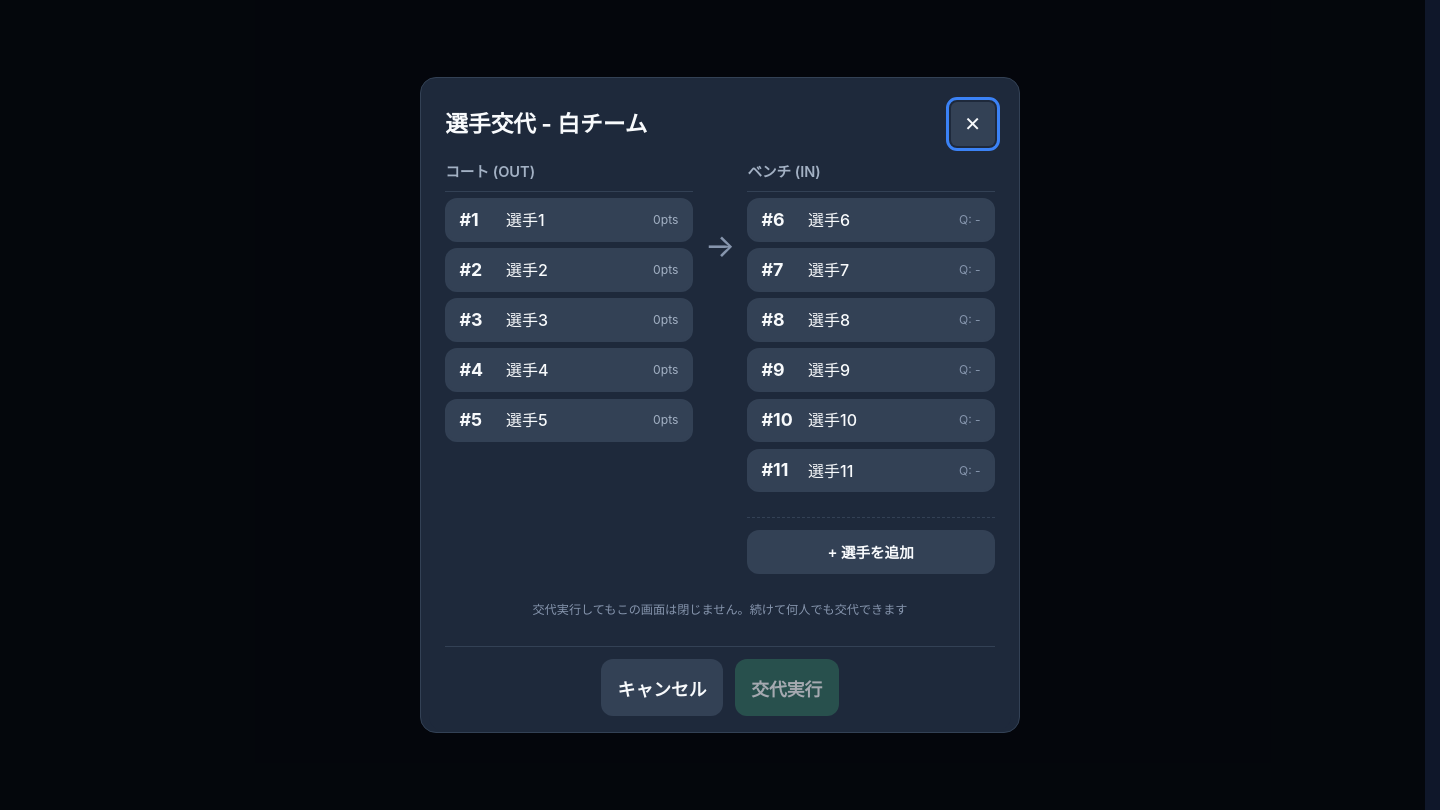
it: SubstitutionModal 登録人数の上限 › 15人に達したら、スコアシートに収まらないことを知らせる
Click the button "+ 選手を追加" at (871, 552), box [747,530,995,574]
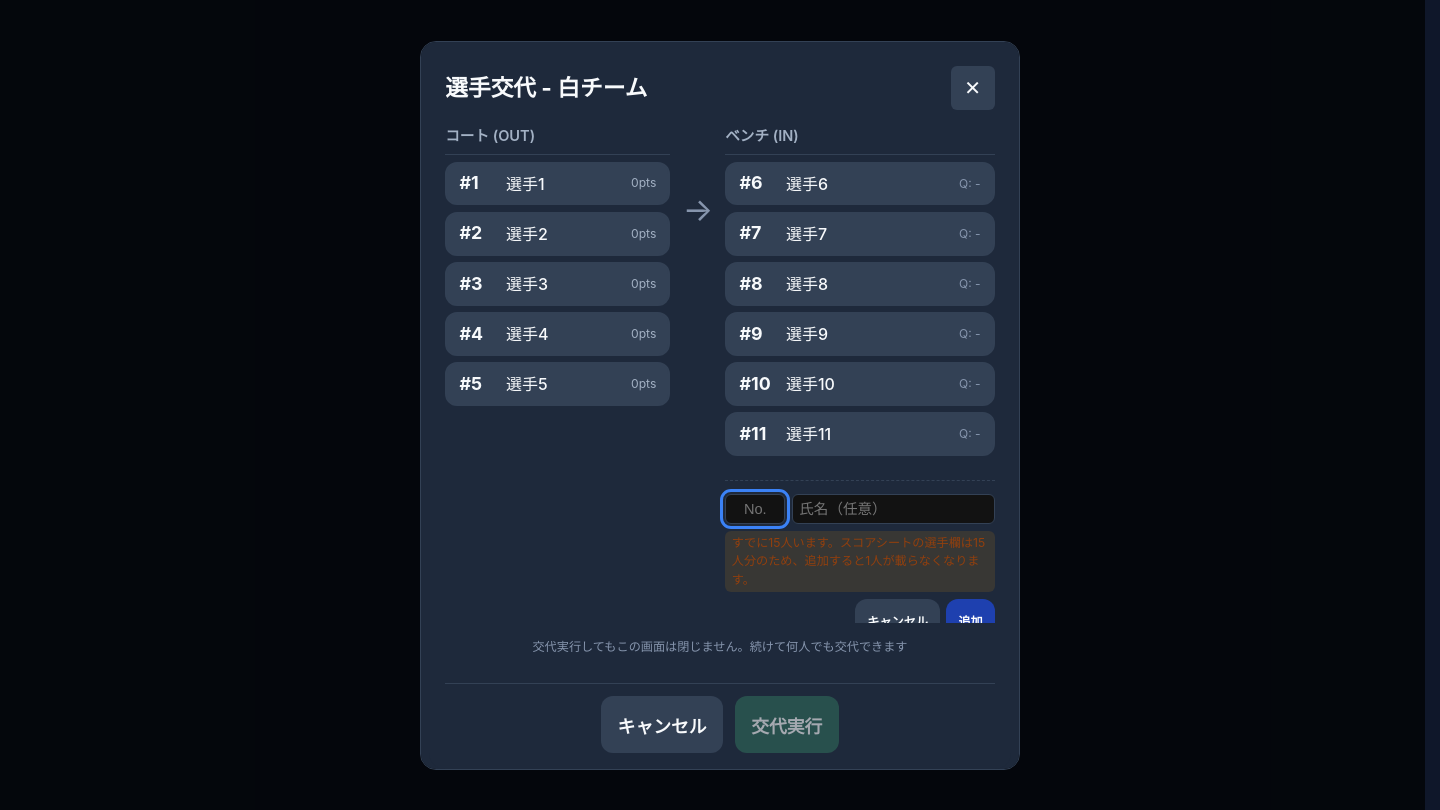
Expected: the text "すでに15人います。スコアシートの選手欄は15人分のため、追加すると1人が載らなくなります。" is shown, [725,531,995,592]
